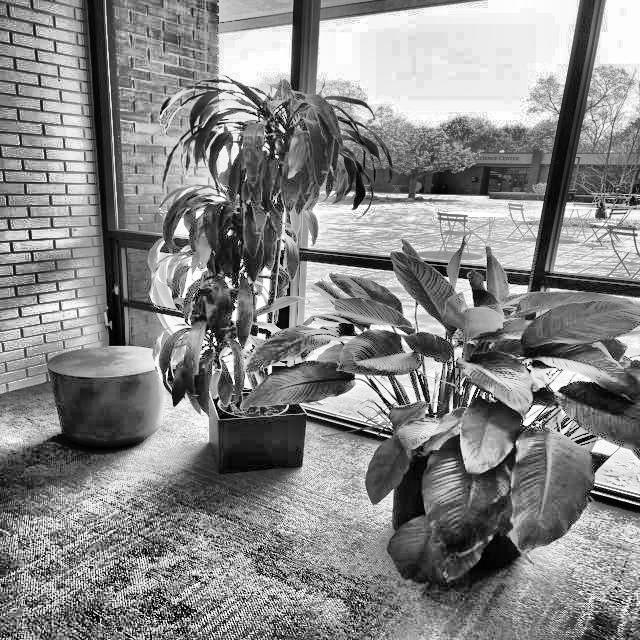plants: (117, 71, 333, 436), (372, 258, 586, 550)
